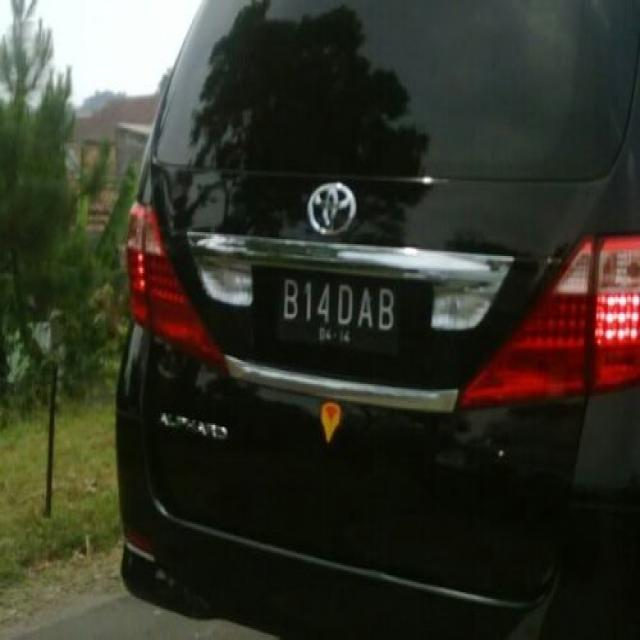plate: (275, 275, 403, 355)
